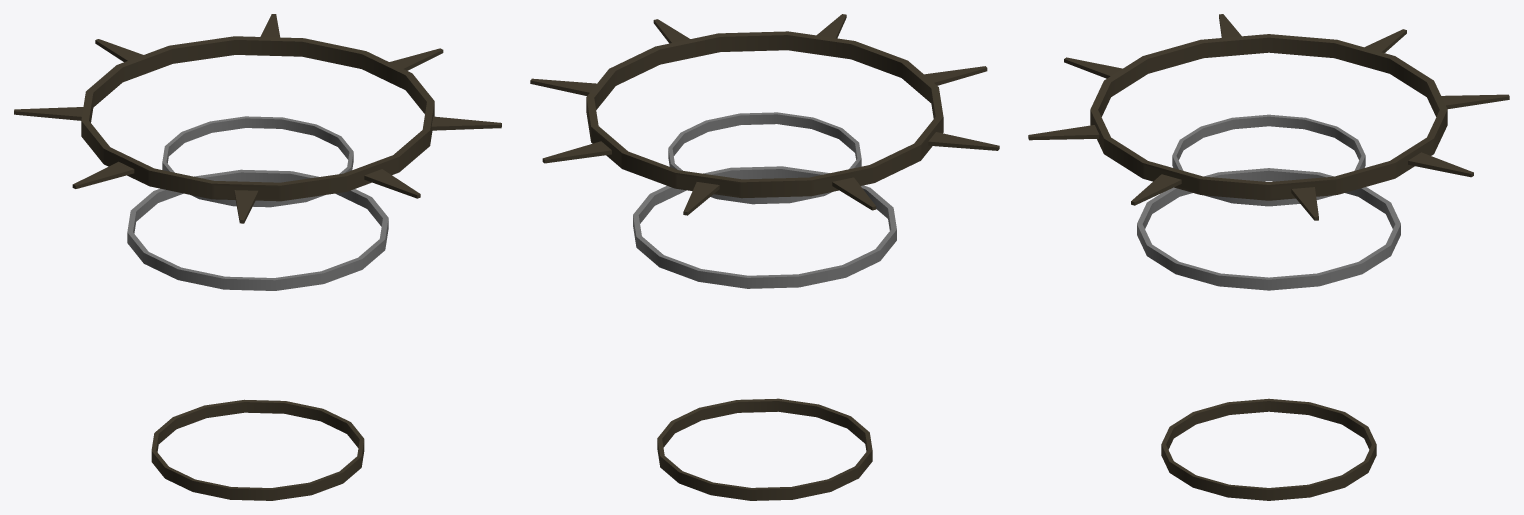
The model's file is Energy Ring3.fbx.
The picture shows the model from 3 angles, left to right: view 1: azimuth 30°, elevation 25°; view 2: azimuth 150°, elevation 25°; view 3: azimuth 270°, elevation 25°; orthographic projection.
Visible parts, largest first — view 1: Energy Ring3; view 2: Energy Ring3; view 3: Energy Ring3.
Boxes of the visible parts, box(x1,y1,x2,y2) form: Energy Ring3: box(14, 14, 501, 500); Energy Ring3: box(530, 14, 999, 500); Energy Ring3: box(1028, 14, 1509, 500).
Size of the model in its own units: 736 by 584 by 736.
